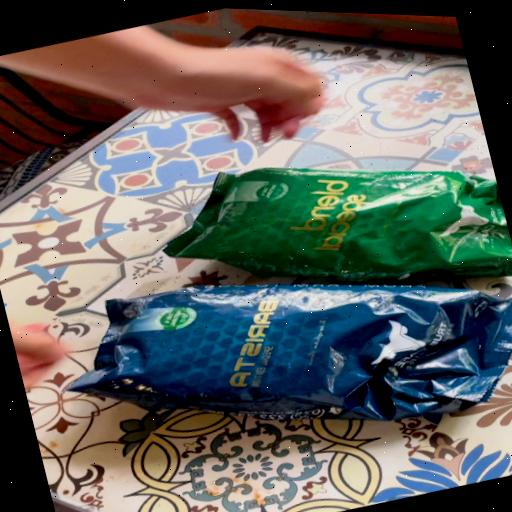cafe_hat: (71, 285, 512, 421)
cafe_xay: (164, 167, 512, 284)
